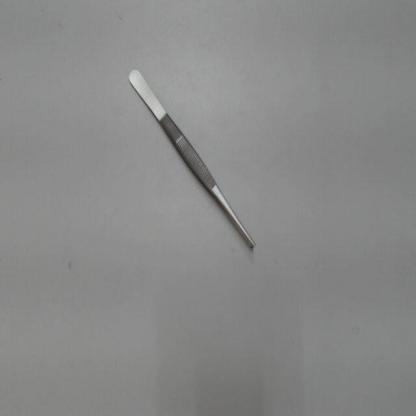Gillies Toothed Dissector: (120, 58, 265, 264)
